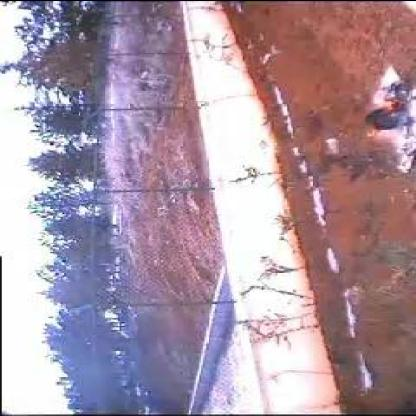foggia-v2-map80-epoch100 - v1 4323: (386, 98, 400, 108)
